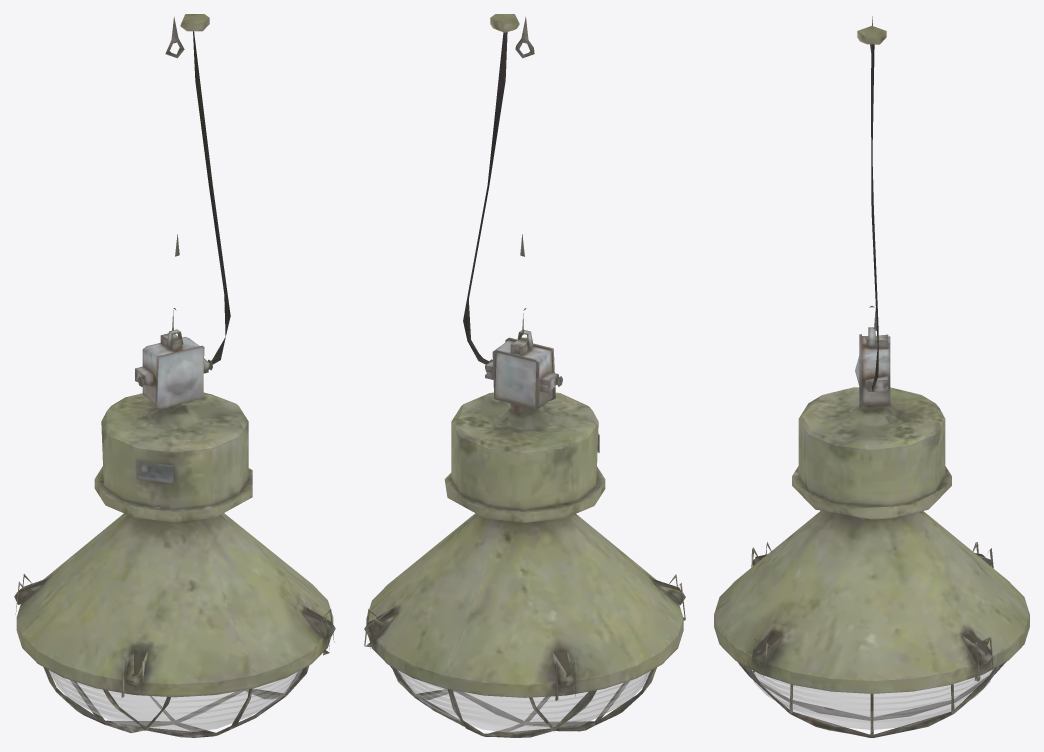
The model's file is lampHanging.glb.
3 views of the same model, side by side, from view 1: azimuth 30°, elevation 25°; view 2: azimuth 150°, elevation 25°; view 3: azimuth 270°, elevation 25° (orthographic).
Visible parts, largest first — view 1: hanging_industrial_lamp; view 2: hanging_industrial_lamp; view 3: hanging_industrial_lamp.
Boxes of the visible parts, x1,y1,x2,y2 form: hanging_industrial_lamp: (14,14,335,737); hanging_industrial_lamp: (364,14,685,737); hanging_industrial_lamp: (714,16,1029,737).
Bounding box in the file's own units: 0.5497 × 1.36 × 0.5497.
2 materials, 1 textured.
